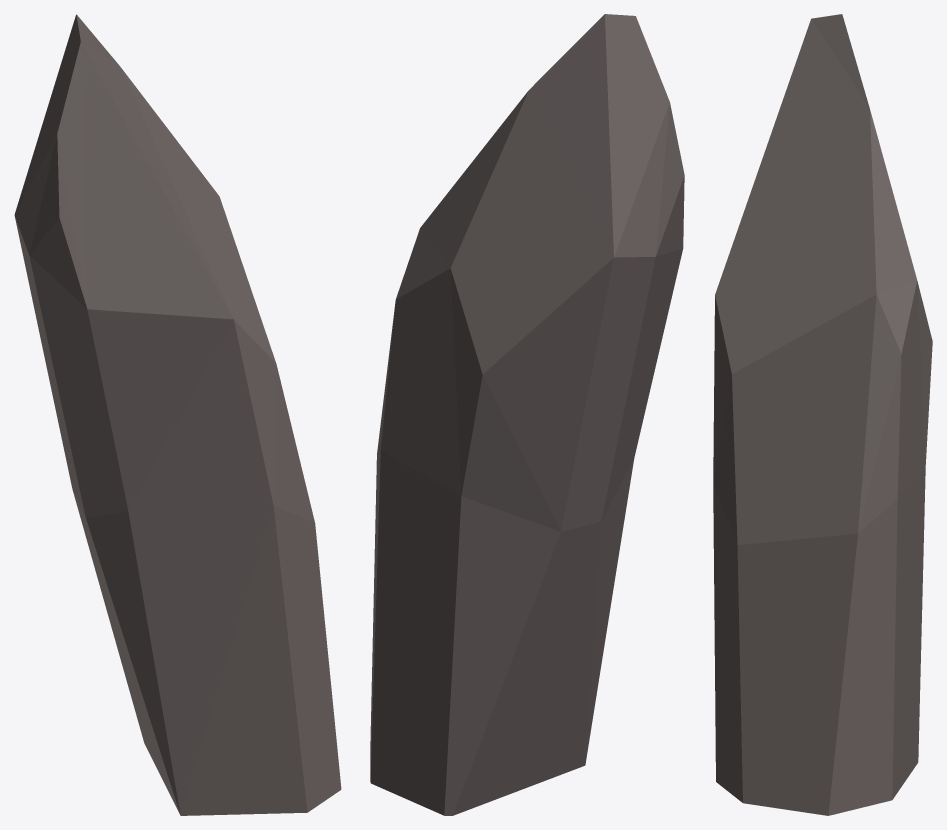
The model's file is Rock_Sharp_m_05 6.fbx.
3 renders of one model, left to right at view 1: azimuth 30°, elevation 25°; view 2: azimuth 150°, elevation 25°; view 3: azimuth 270°, elevation 25°, orthographic. The views are drawn at different scales.
Visible parts, largest first — view 1: Rock_Sharp_m_05; view 2: Rock_Sharp_m_05; view 3: Rock_Sharp_m_05.
Part boxes in pixels (<box>): Rock_Sharp_m_05: <box>14,14,341,815</box>; Rock_Sharp_m_05: <box>370,14,684,815</box>; Rock_Sharp_m_05: <box>713,14,932,815</box>.
Size of the model in its own units: 74.43 by 195 by 55.42.
